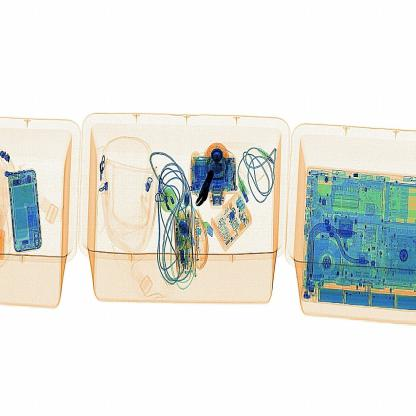knife: (192, 168, 225, 214)
